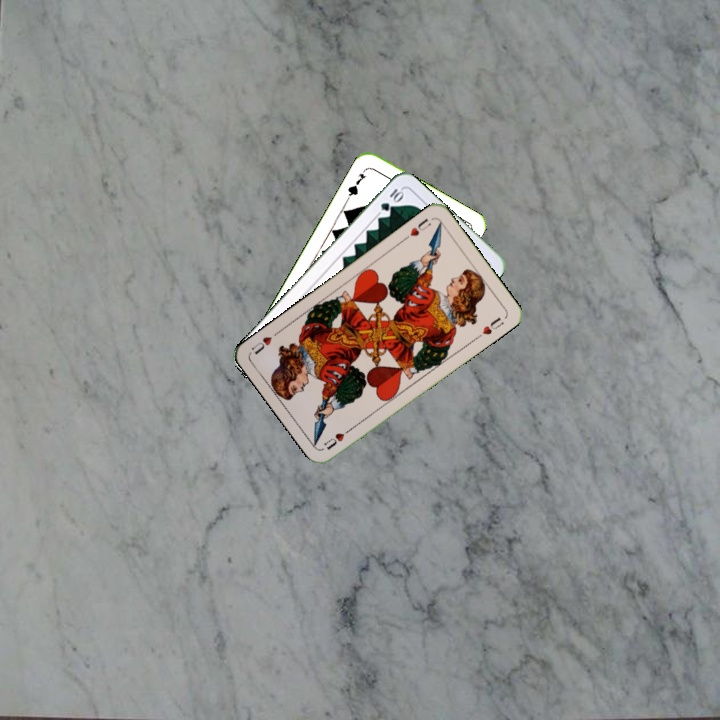G10: (376, 184, 406, 214)
G7: (343, 165, 369, 202)
HU: (319, 423, 355, 452), (400, 214, 434, 243)
